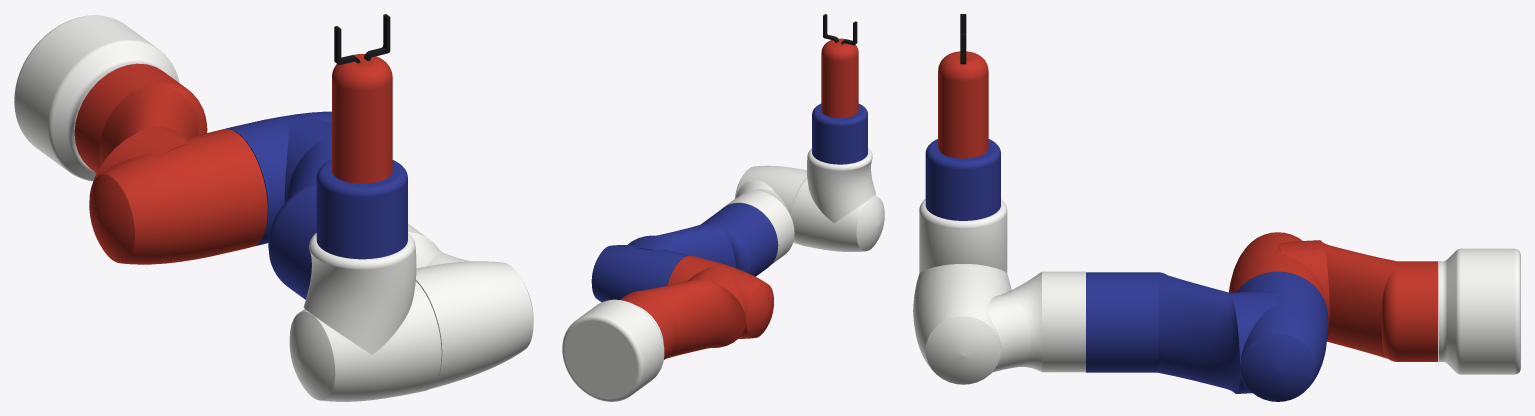
Rendered from FirstHighRes.fbx.
3 renders of one model, left to right at view 1: azimuth 30°, elevation 25°; view 2: azimuth 150°, elevation 25°; view 3: azimuth 270°, elevation 25°, orthographic. The views are drawn at different scales.
Parts seen in each view (by area): view 1: Bone1, Bone4, Base, Bone3, Bone2, Length1, Length2, ClawRight; view 2: Bone1, Bone2, Base, Bone4, Bone3, Length2, Length1; view 3: Bone2, Bone3, Bone1, Base, Bone4, Length2, Length1.
Part boxes in pixels (x1,y1,x2,y2): Bone1: [74, 63, 267, 264]; Bone4: [289, 233, 441, 401]; Base: [14, 15, 179, 181]; Bone3: [408, 223, 533, 389]; Bone2: [225, 111, 331, 299]; Length1: [316, 160, 407, 259]; Length2: [331, 54, 392, 183]; ClawRight: [364, 14, 390, 60]; Bone1: [620, 255, 773, 359]; Bone2: [591, 203, 778, 302]; Base: [562, 299, 664, 401]; Bone4: [791, 148, 884, 251]; Bone3: [722, 165, 807, 265]; Length2: [821, 38, 858, 118]; Length1: [812, 103, 867, 164]; Bone2: [1086, 271, 1328, 401]; Bone3: [913, 265, 1085, 384]; Bone1: [1229, 232, 1438, 361]; Base: [1439, 248, 1520, 374]; Bone4: [913, 199, 1011, 309]; Length2: [938, 51, 988, 158]; Length1: [925, 139, 1000, 220].
Bounding box in the file's own units: 421 × 567 × 966.
